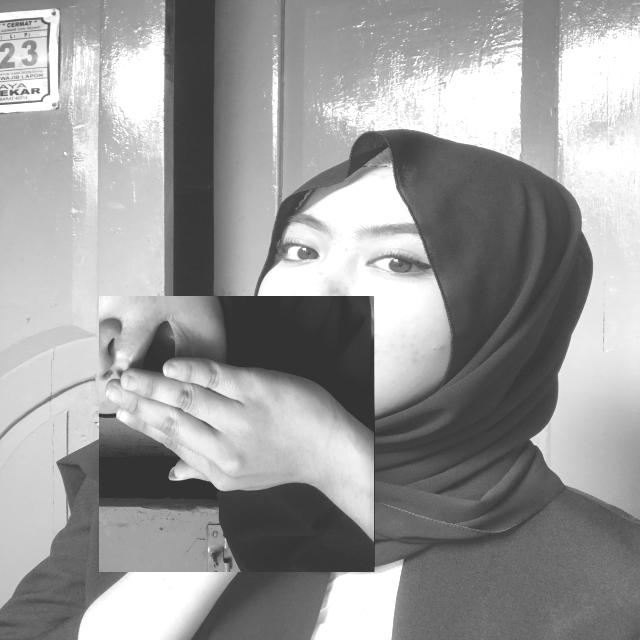ngantuk: (99, 296, 375, 572)
